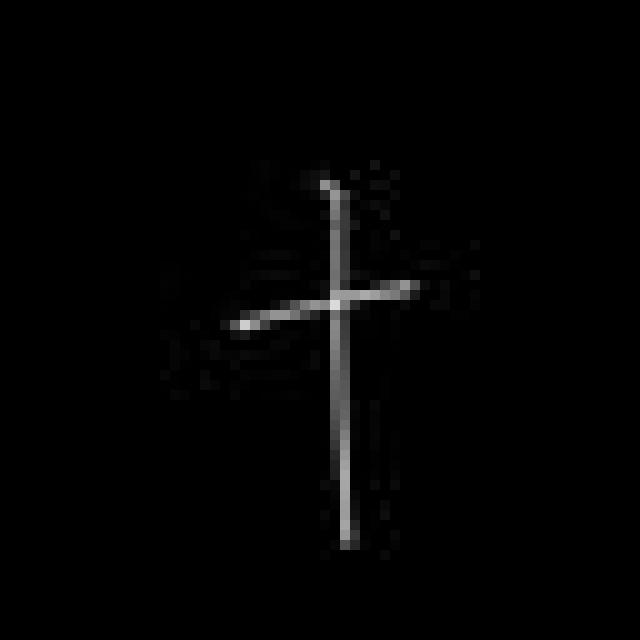10 -ten-: (228, 170, 422, 552)
